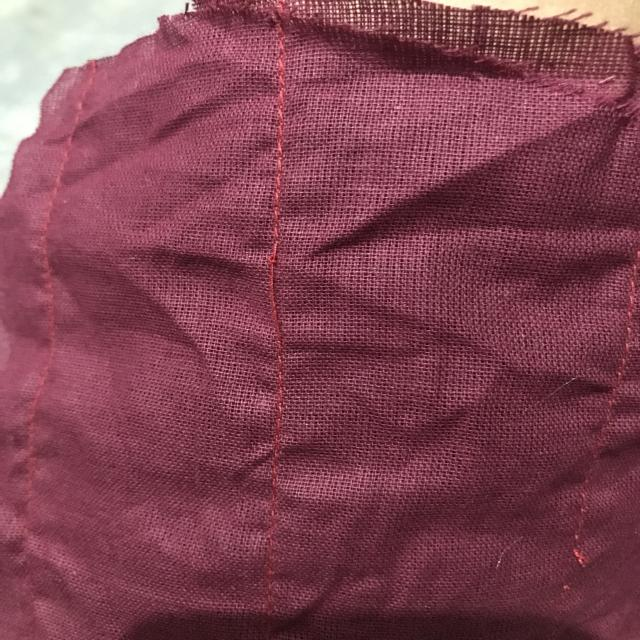good: (260, 110, 298, 212)
skip: (255, 227, 301, 344)
